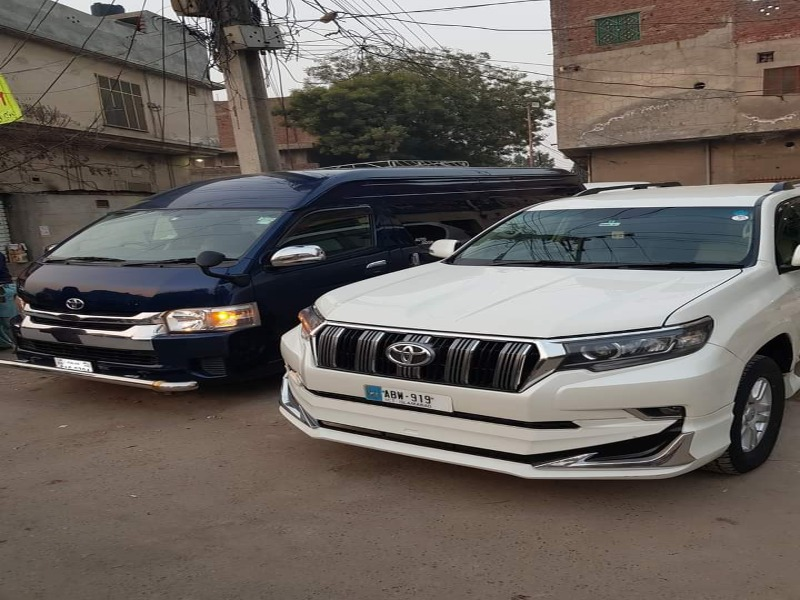License Plate: (360, 381, 458, 418), (51, 352, 97, 379)
